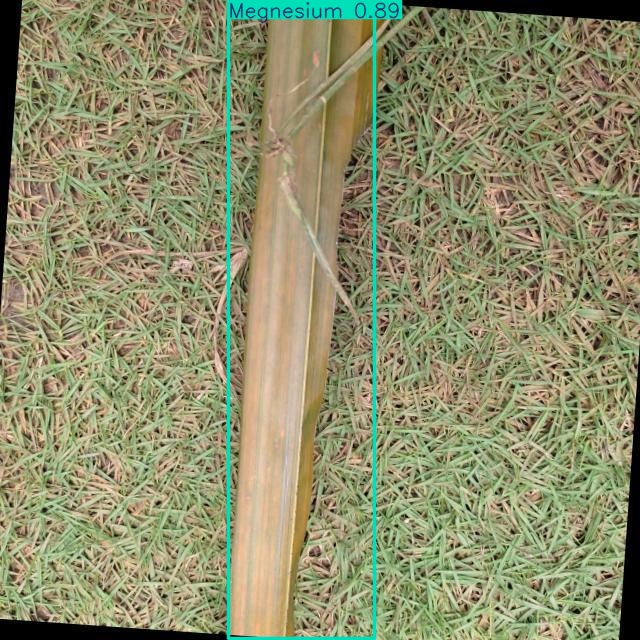Megnesium: (228, 1, 375, 638)
